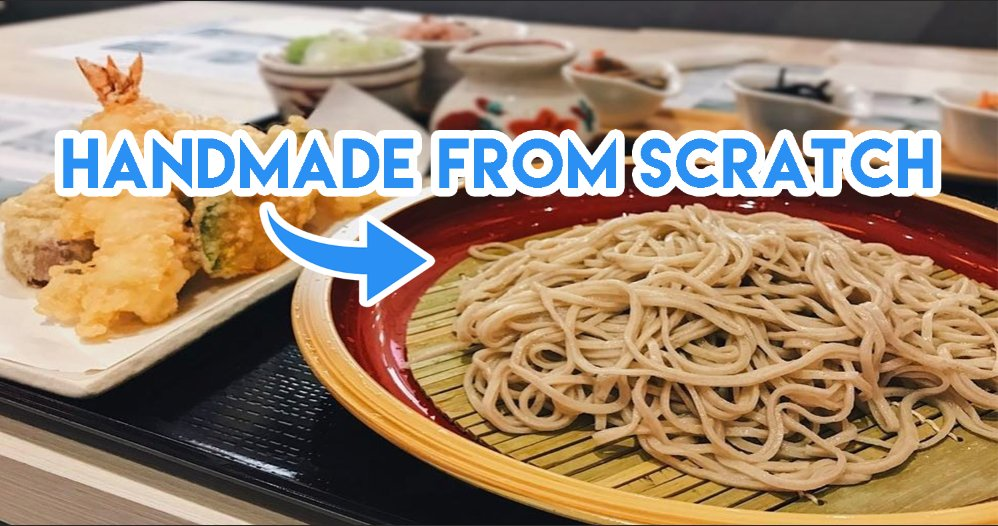Soba: (444, 223, 998, 484)
